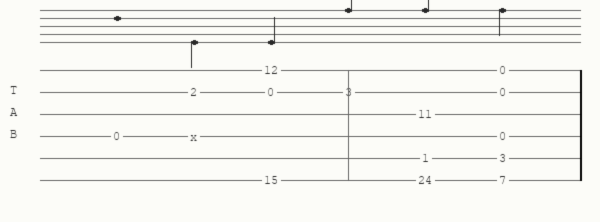0: (113, 130, 124, 142), (267, 86, 278, 98), (499, 130, 510, 142), (499, 86, 510, 98), (499, 64, 510, 76)
1: (422, 152, 433, 164)
11: (418, 108, 436, 120)
12: (264, 64, 282, 76)
15: (264, 174, 282, 186)
2: (190, 86, 201, 98)
24: (418, 174, 436, 186)
3: (345, 86, 356, 98), (499, 152, 510, 164)
7: (499, 174, 510, 186)
x: (190, 131, 201, 141)
